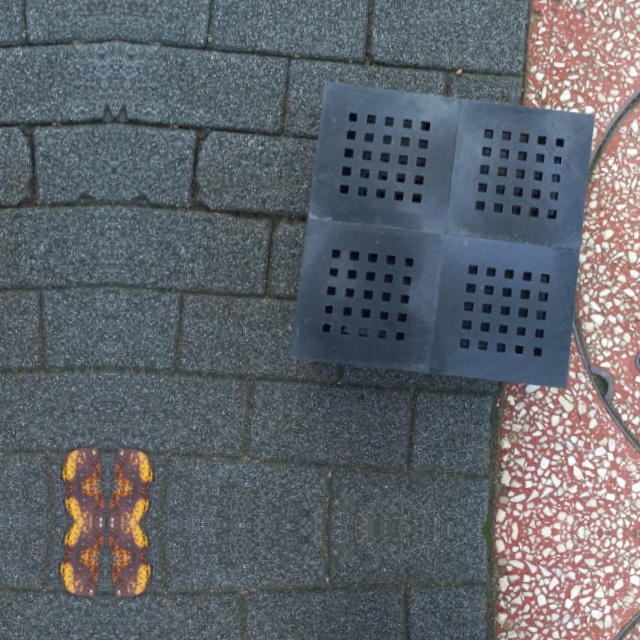pallet: (281, 73, 603, 395)
